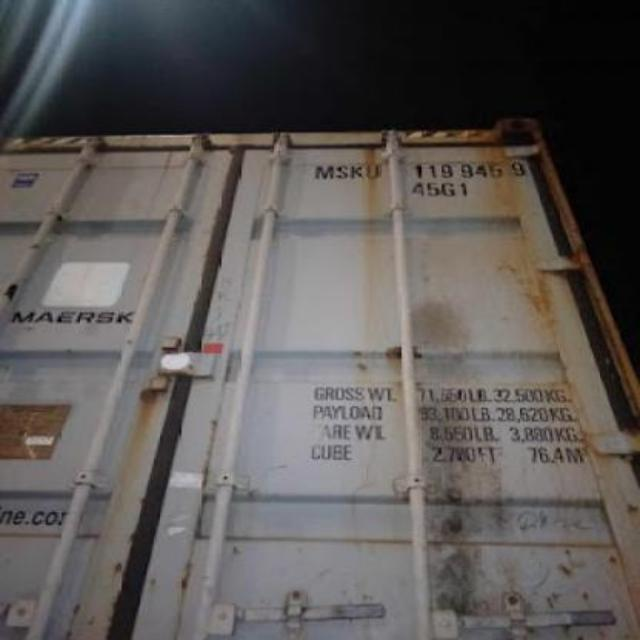1: (410, 160, 426, 182), (424, 158, 438, 180)
4: (474, 154, 486, 180)
5: (488, 156, 502, 182)
9: (458, 151, 474, 181), (508, 156, 528, 180), (441, 158, 454, 178)
K: (348, 156, 364, 188)
M: (312, 159, 334, 183)
S: (334, 159, 350, 183)
U: (362, 159, 380, 183)
